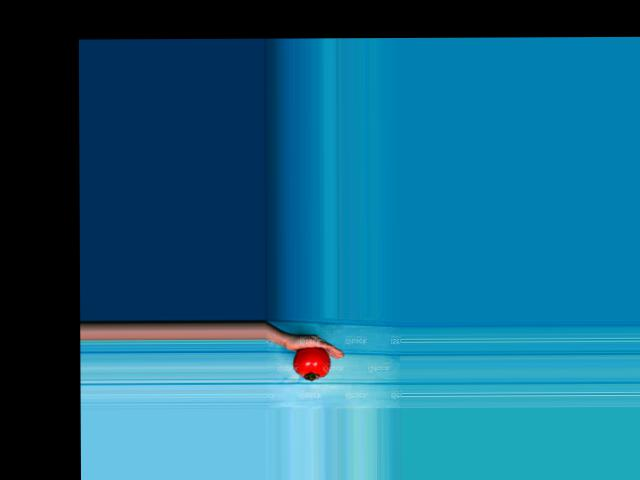tomato: (294, 346, 331, 380)
